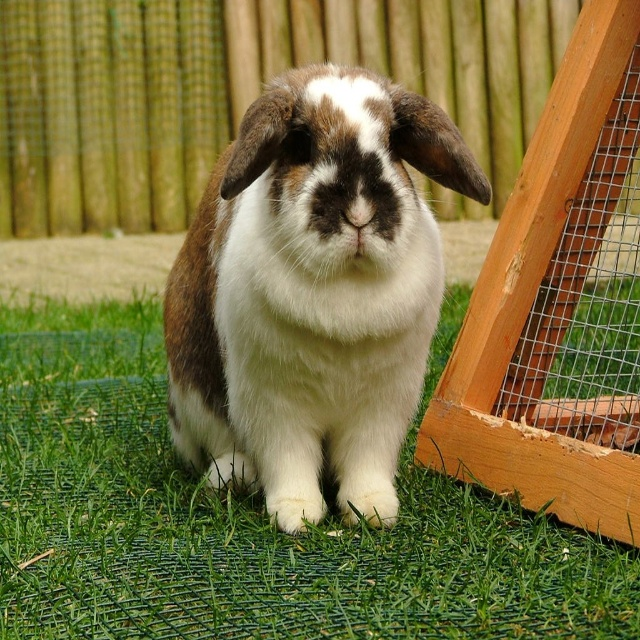Rabbit: (162, 59, 494, 535)
